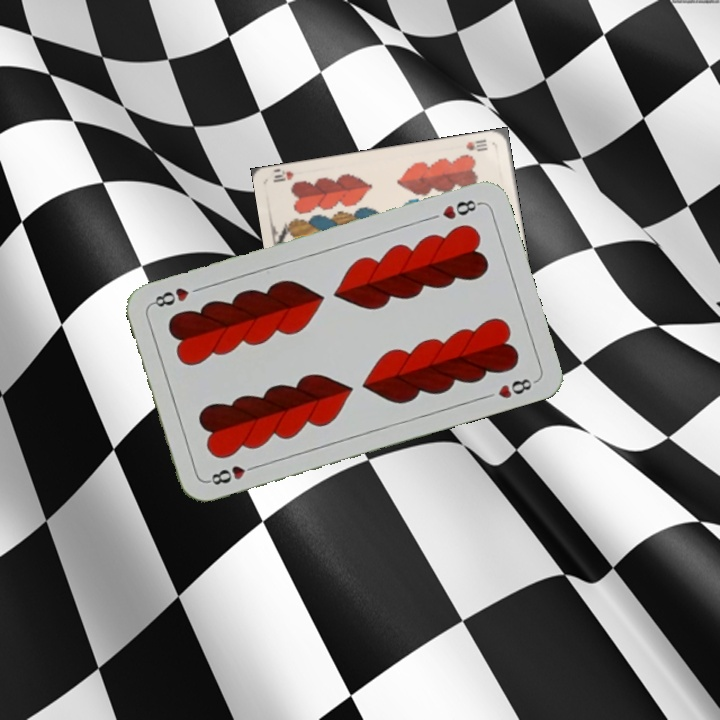H10: (462, 135, 490, 154)
H8: (203, 460, 261, 488), (438, 195, 483, 222)
